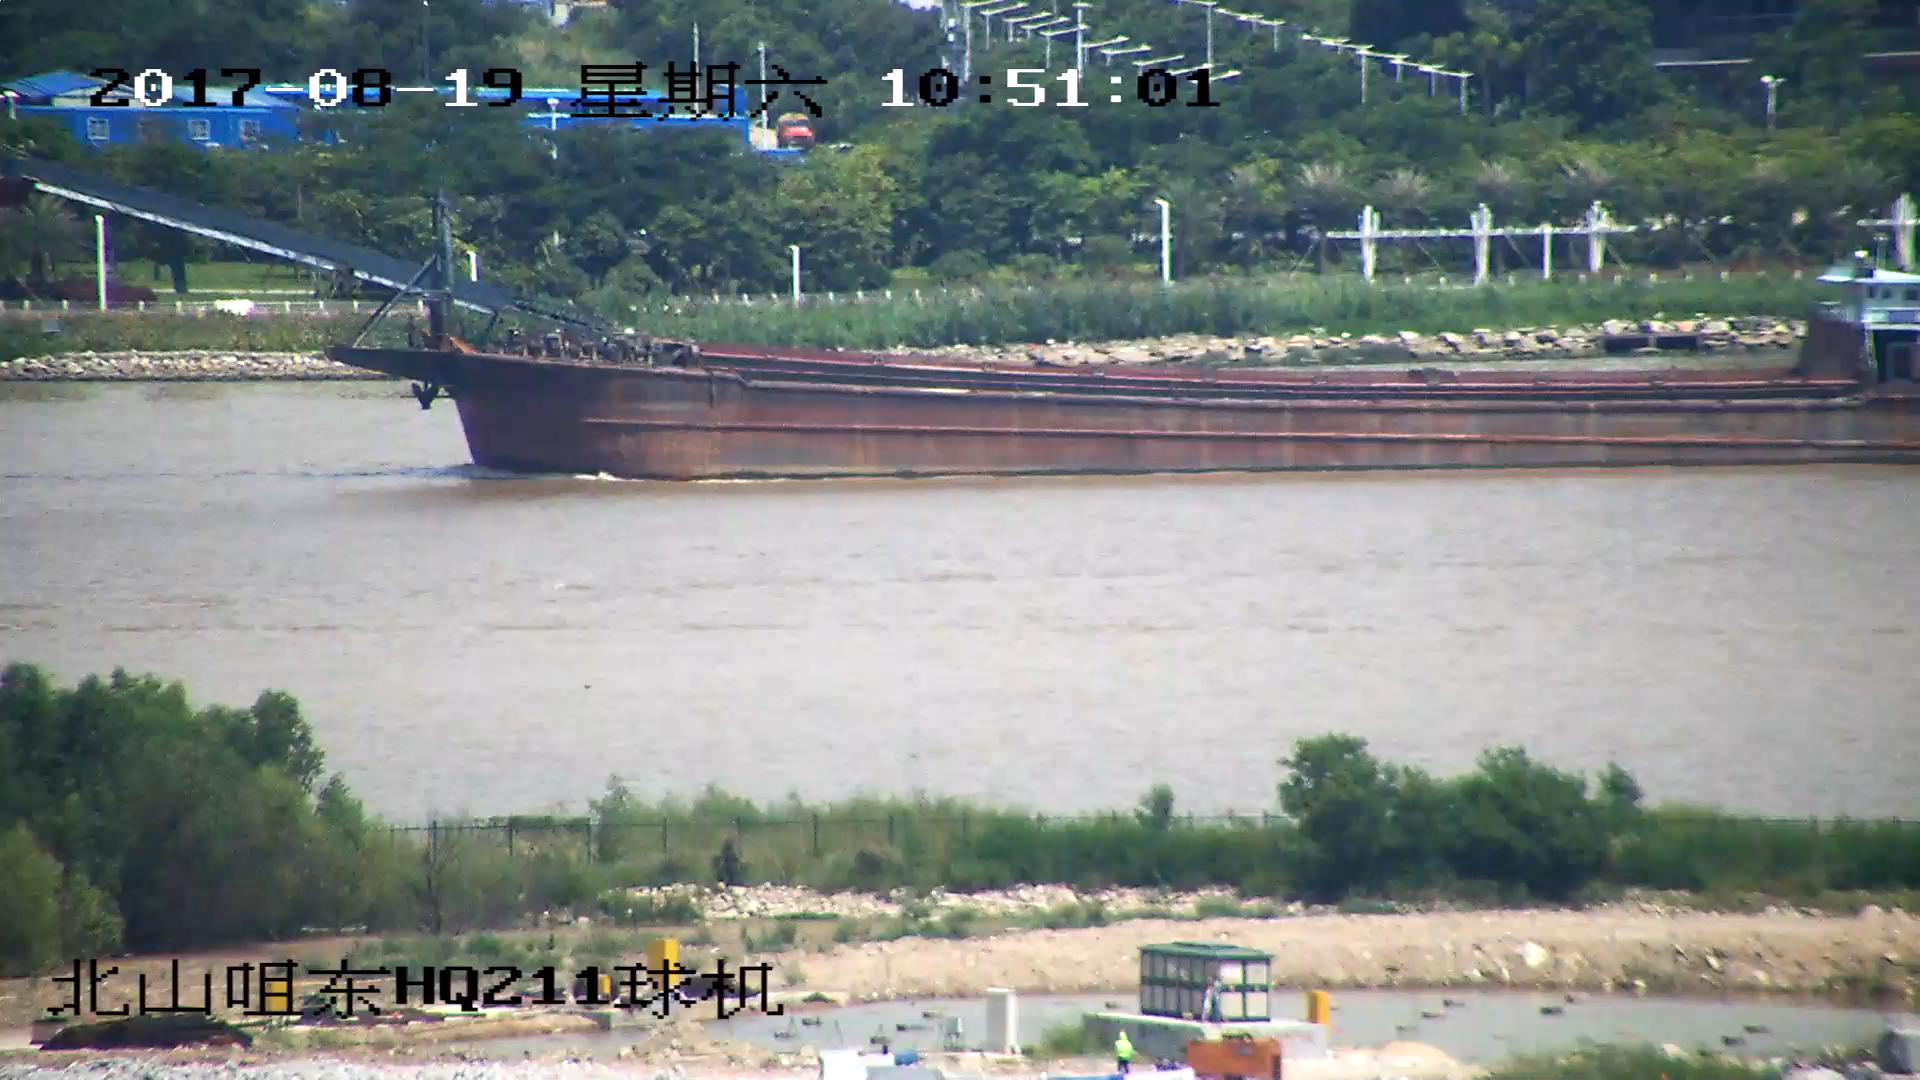bulk cargo carrier: (9, 157, 1920, 481)
